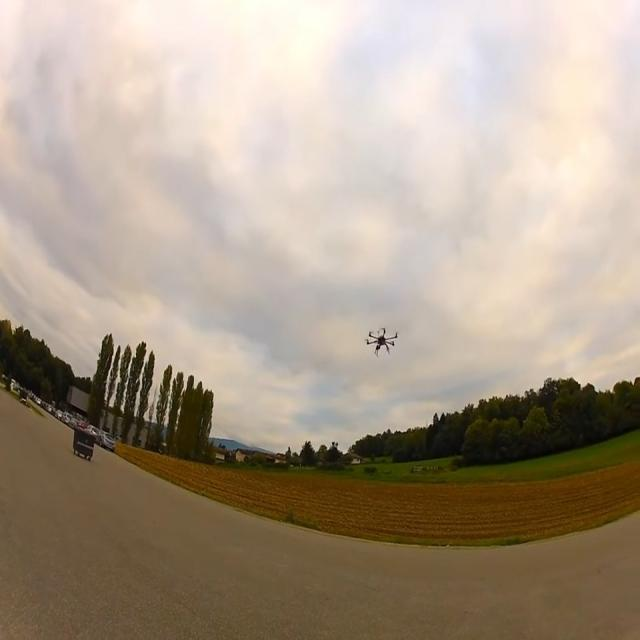drone: (365, 327, 398, 357)
